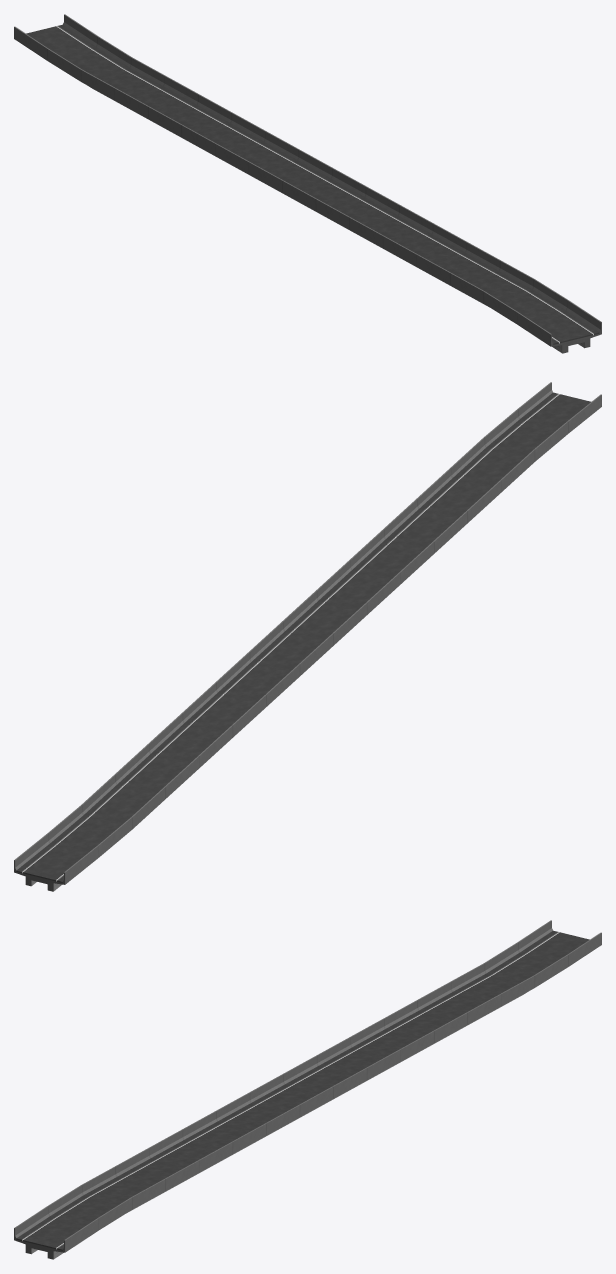
The model's file is 高速道路_上り勾配_4m×80m×7m.fbx.
The picture shows the model from 3 angles, top to bottom: view 1: azimuth 30°, elevation 25°; view 2: azimuth 150°, elevation 25°; view 3: azimuth 330°, elevation 25°; orthographic projection.
Visible parts, largest first — view 1: Road, Wall; view 2: Road, Wall; view 3: Road, Wall.
Part boxes in pixels (x1,y1,x2,y2): Road: (26, 24, 599, 344); Wall: (14, 14, 601, 353); Road: (16, 392, 591, 882); Wall: (14, 382, 601, 891); Road: (16, 930, 589, 1250); Wall: (14, 920, 601, 1259).
Size of the model in its own units: 4.4 by 8.8 by 80.
